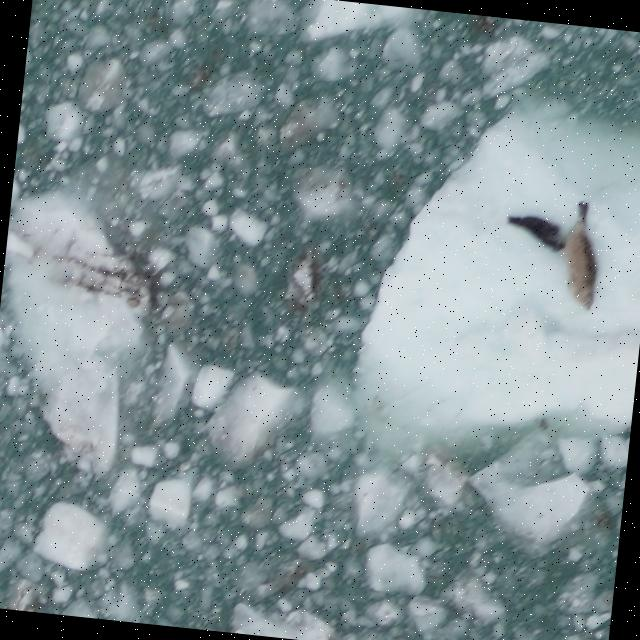seal: (553, 194, 609, 315), (497, 207, 571, 256)
